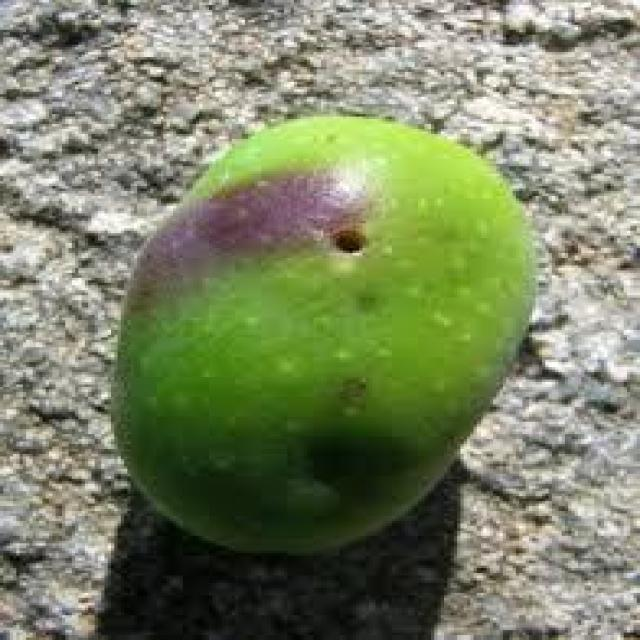Anthracnose: (111, 116, 532, 548)
